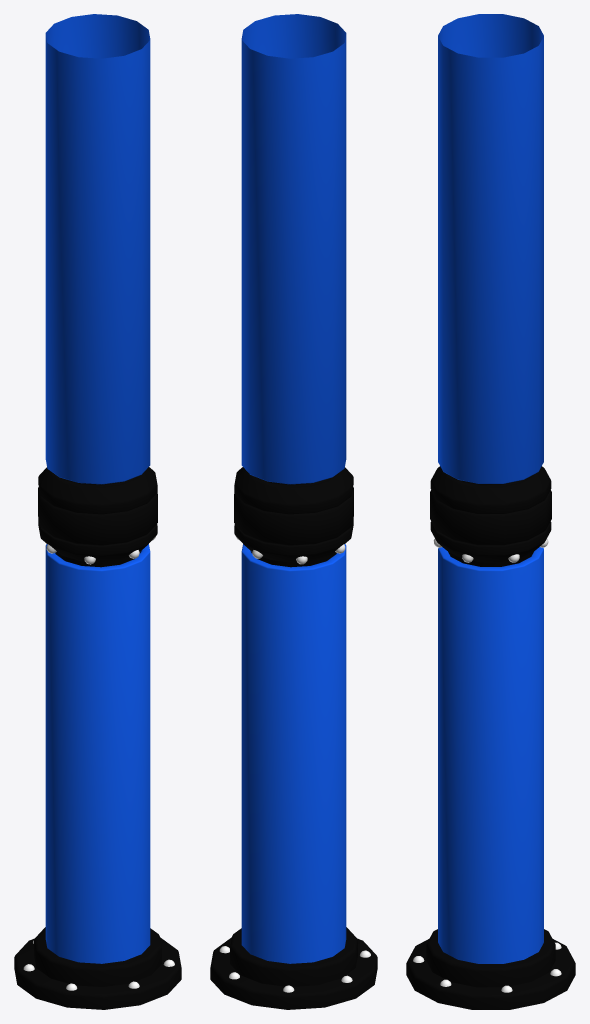
Rendered from LevelRework_BigTube_BaseBaked2.fbx.
The picture shows the model from 3 angles, left to right: view 1: azimuth 30°, elevation 25°; view 2: azimuth 150°, elevation 25°; view 3: azimuth 270°, elevation 25°; orthographic projection.
Parts seen in each view (by area): view 1: BigTube_TopPartBaked2, BigTube_BottomPartBaked2, BigTube_BaseBaked2, BigTube_ConnectorMiddleBaked2, BigTube_ConnectopTopBaked2, BigTube_BaseRingBaked2, BigTube_ConnectorBottomBaked2; view 2: BigTube_TopPartBaked2, BigTube_BottomPartBaked2, BigTube_BaseBaked2, BigTube_ConnectorMiddleBaked2, BigTube_ConnectopTopBaked2, BigTube_BaseRingBaked2, BigTube_ConnectorBottomBaked2; view 3: BigTube_TopPartBaked2, BigTube_BottomPartBaked2, BigTube_BaseBaked2, BigTube_ConnectorMiddleBaked2, BigTube_ConnectopTopBaked2, BigTube_BaseRingBaked2, BigTube_ConnectorBottomBaked2.
Part boxes in pixels (x1,y1,x2,y2): BigTube_TopPartBaked2: (45,14,150,484); BigTube_BottomPartBaked2: (45,544,150,963); BigTube_BaseBaked2: (14,937,181,1009); BigTube_ConnectorMiddleBaked2: (38,487,157,545); BigTube_ConnectopTopBaked2: (38,467,157,514); BigTube_BaseRingBaked2: (34,927,161,986); BigTube_ConnectorBottomBaked2: (38,519,157,567); BigTube_TopPartBaked2: (241,14,346,484); BigTube_BottomPartBaked2: (241,544,346,963); BigTube_BaseBaked2: (210,937,377,1009); BigTube_ConnectorMiddleBaked2: (234,487,353,545); BigTube_ConnectopTopBaked2: (234,467,353,514); BigTube_BaseRingBaked2: (230,927,357,986); BigTube_ConnectorBottomBaked2: (234,519,353,567); BigTube_TopPartBaked2: (438,14,543,483); BigTube_BottomPartBaked2: (438,547,543,963); BigTube_BaseBaked2: (406,939,575,1009); BigTube_ConnectorMiddleBaked2: (430,490,551,545); BigTube_ConnectopTopBaked2: (430,466,551,513); BigTube_BaseRingBaked2: (426,929,555,987); BigTube_ConnectorBottomBaked2: (430,521,551,566).
Size of the model in its own units: 137 by 858 by 140.
